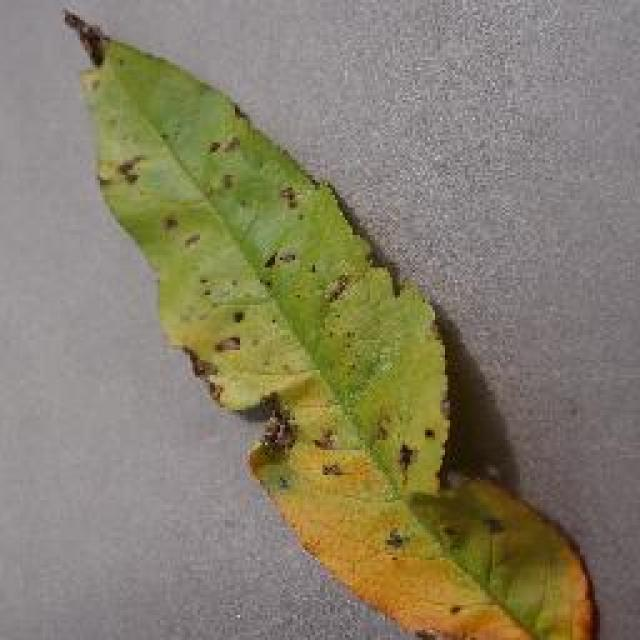Bacterial_spot: (57, 8, 606, 640)
